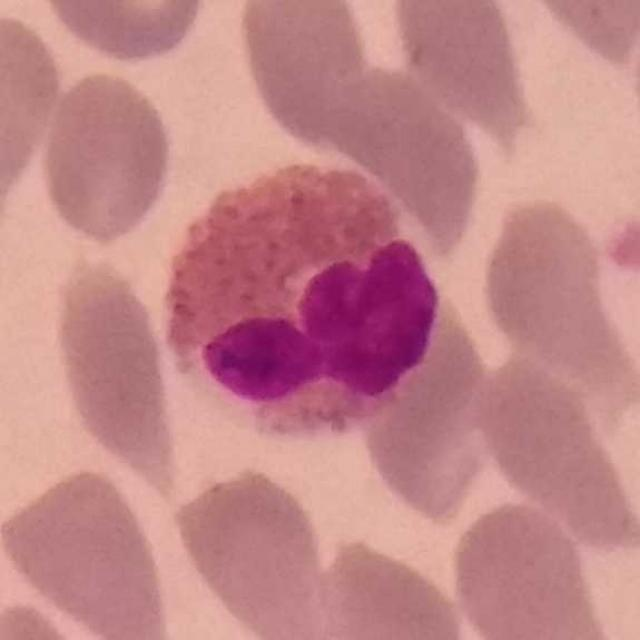Eosinophil: (170, 161, 438, 437)
Platelets: (598, 205, 640, 275)
RBC: (480, 342, 632, 551), (0, 463, 180, 639), (167, 462, 335, 638), (481, 193, 633, 378), (48, 254, 177, 466), (337, 62, 479, 254), (364, 313, 498, 515), (35, 66, 178, 247), (444, 495, 620, 640), (232, 0, 377, 141), (300, 534, 476, 640), (382, 0, 532, 117), (0, 4, 67, 220), (36, 0, 210, 67), (515, 0, 640, 67), (0, 595, 104, 640), (625, 0, 640, 172)
